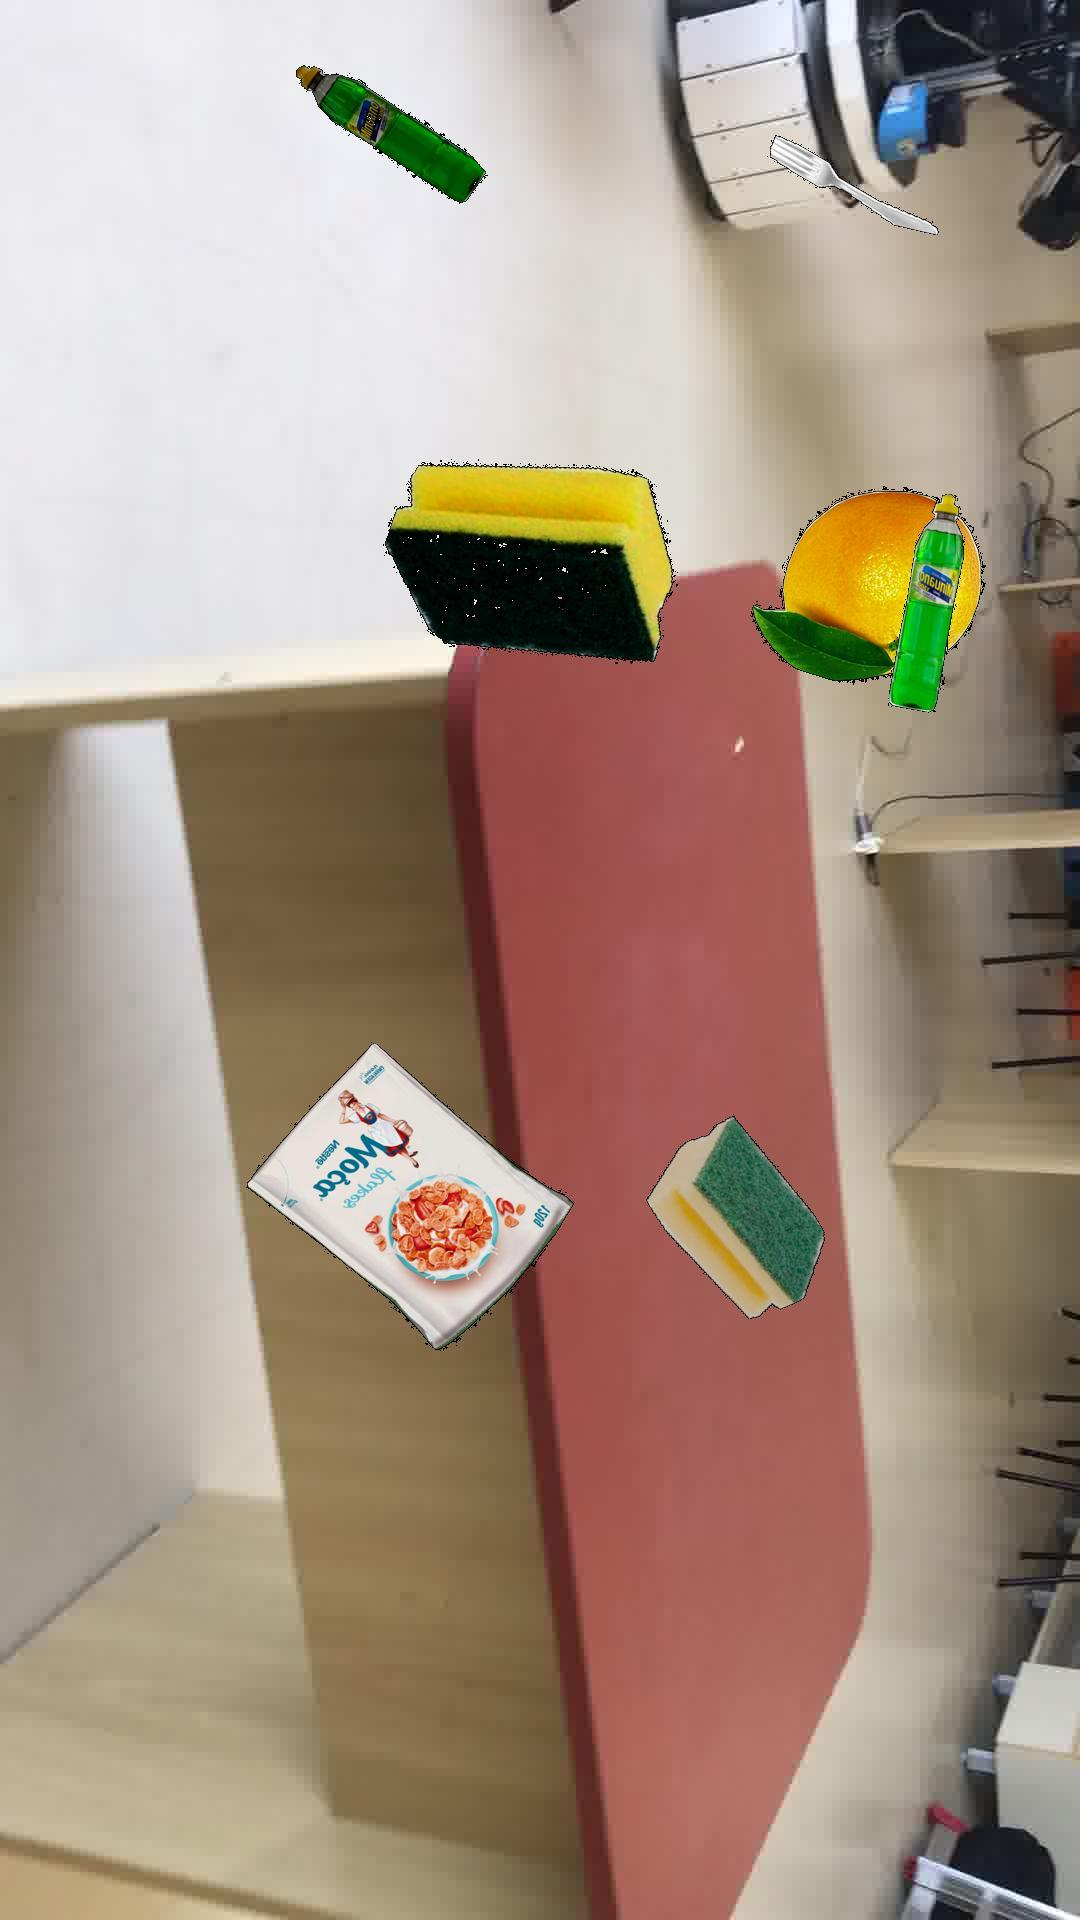cleaner: (294, 63, 484, 203), (886, 492, 964, 712)
corn flakes: (244, 1042, 572, 1349)
fork: (769, 135, 938, 233)
orange: (749, 485, 985, 683)
sponge: (384, 460, 674, 662), (645, 1114, 823, 1317)
